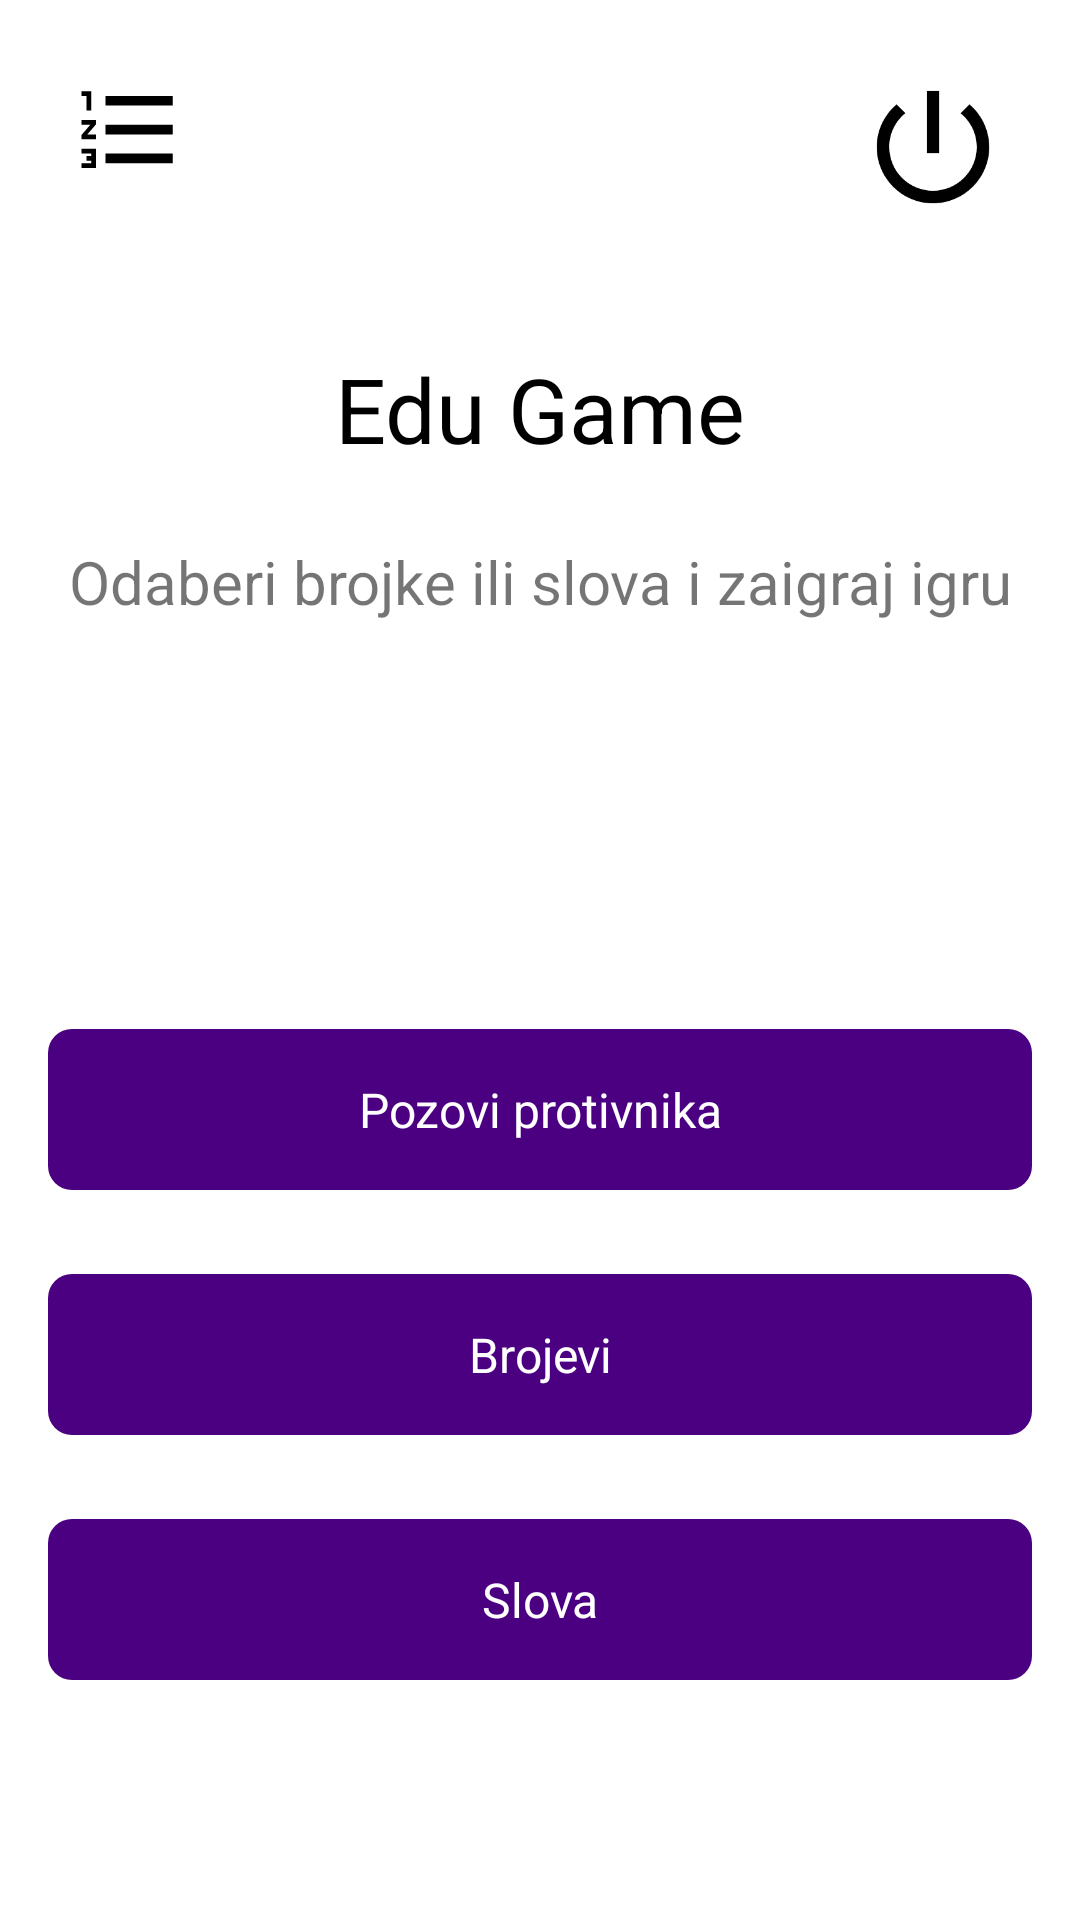

Icons on this 1080×1920 Android screen, each with the point to tap as (x,y):
format list numbered: (127,129)
